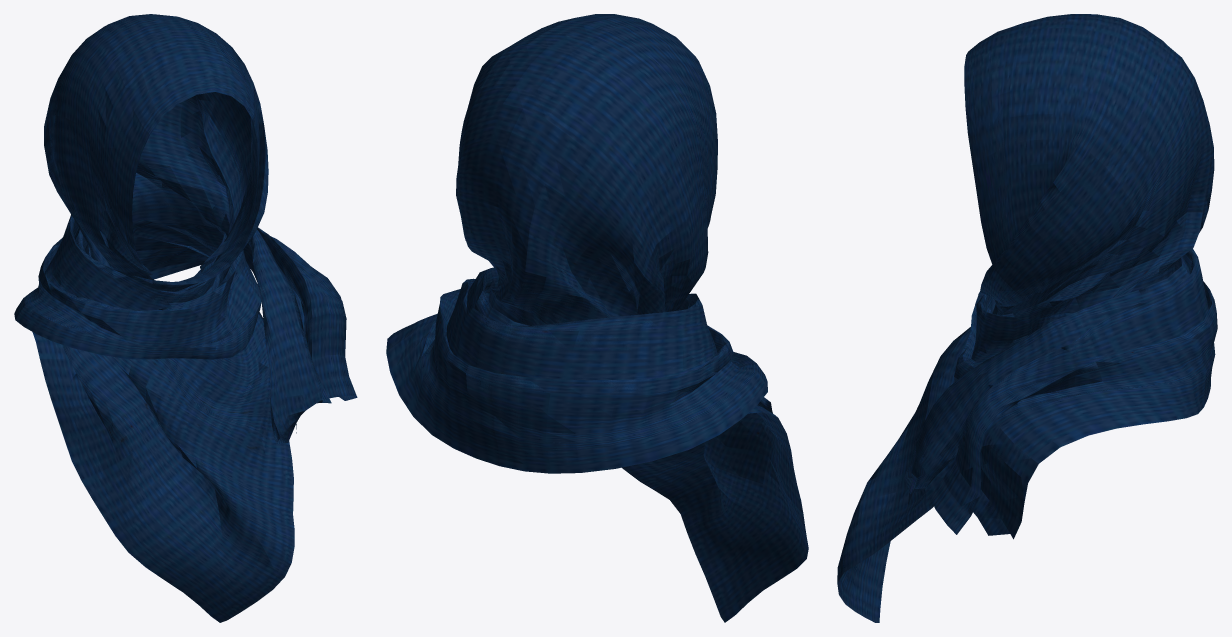
File: Hijab-headwear-3d-model.fbx
3 views of the same model, side by side, from view 1: azimuth 30°, elevation 25°; view 2: azimuth 150°, elevation 25°; view 3: azimuth 270°, elevation 25° (orthographic). The views are drawn at different scales.
Visible parts, largest first — view 1: hijab-out; view 2: hijab-out; view 3: hijab-out.
Part boxes in pixels (bbox=[...]): hijab-out: bbox=[14, 14, 357, 622]; hijab-out: bbox=[386, 14, 808, 622]; hijab-out: bbox=[837, 14, 1217, 622].
Bounding box in the file's own units: 342 × 571 × 322.
